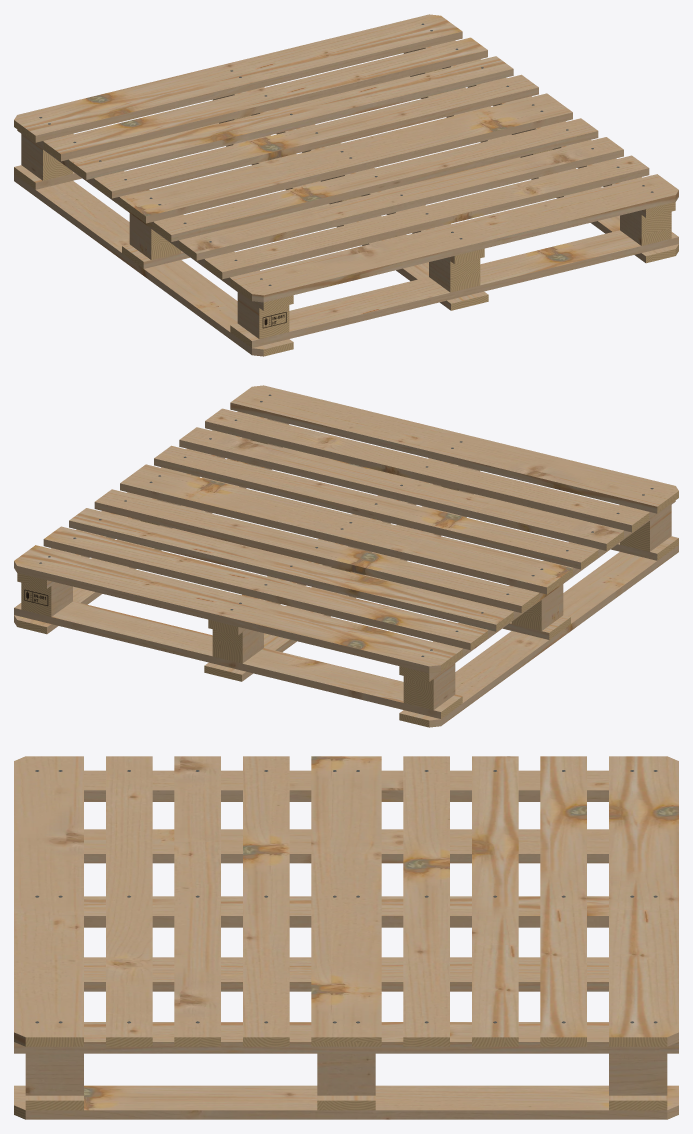
File: cp9-type-pallet-1140x1140.glb
3 renders of one model, top to bottom at view 1: azimuth 30°, elevation 25°; view 2: azimuth 150°, elevation 25°; view 3: azimuth 270°, elevation 25°, orthographic. The views are drawn at different scales.
Visible parts, largest first — view 1: cp9-type-pallet-1140x1140; view 2: cp9-type-pallet-1140x1140; view 3: cp9-type-pallet-1140x1140.
Part boxes in pixels (x1=…): cp9-type-pallet-1140x1140: x1=14, y1=14, x2=678, y2=356; cp9-type-pallet-1140x1140: x1=14, y1=385, x2=678, y2=727; cp9-type-pallet-1140x1140: x1=14, y1=756, x2=678, y2=1119.
Size of the model in its own units: 1.14 by 0.157 by 1.14.
Materials: 4 (3 with a texture image).
